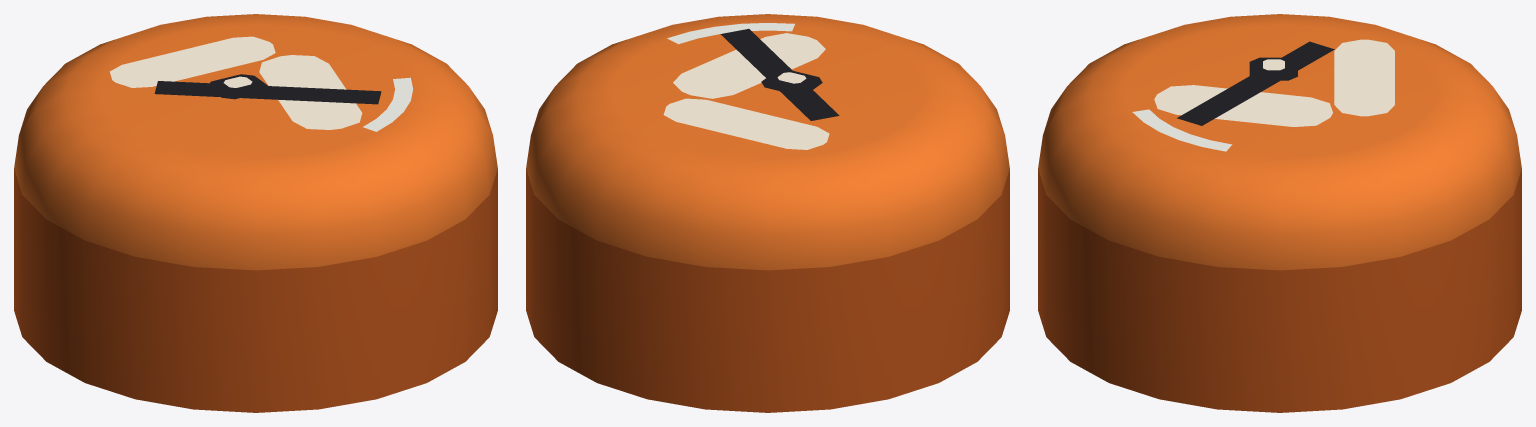
File: BotonCinturon.fbx
The picture shows the model from 3 angles, left to right: view 1: azimuth 30°, elevation 25°; view 2: azimuth 150°, elevation 25°; view 3: azimuth 270°, elevation 25°; orthographic projection.
Visible parts, largest first — view 1: BotonCinturon; view 2: BotonCinturon; view 3: BotonCinturon.
Boxes of the visible parts, x1=… form: BotonCinturon: x1=14, y1=14, x2=497, y2=412; BotonCinturon: x1=526, y1=14, x2=1009, y2=412; BotonCinturon: x1=1038, y1=14, x2=1521, y2=412.
Bounding box in the file's own units: 0.4 × 0.215 × 0.4.
1 material, 1 textured.
